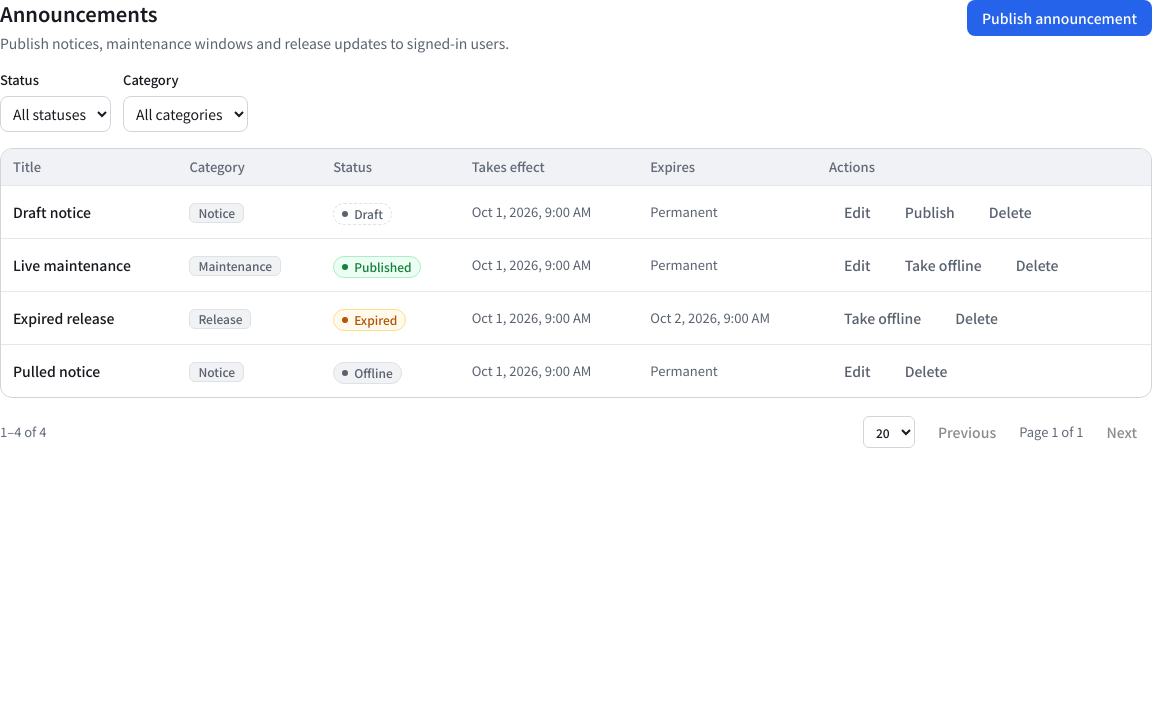
announcements admin page (F-08-04) › deletes only after the destructive confirmation
Expected: the text "Draft notice" is shown, [13,202,91,222]
Click the button with aria-label "Delete Pulled notice": [926, 371] box [890,353,962,389]
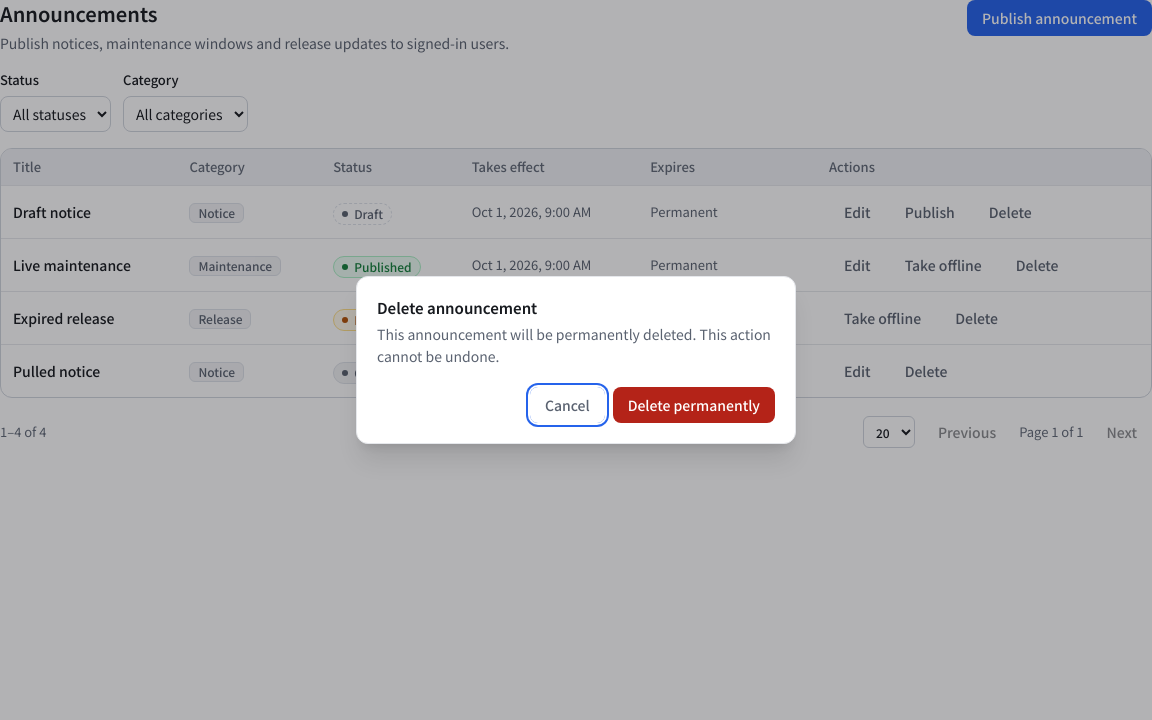
Result: the dialog shows "cannot be undone" at [377,324,771,366]
Click the button "Delete permanently": [694, 405] box [613,387,775,423]
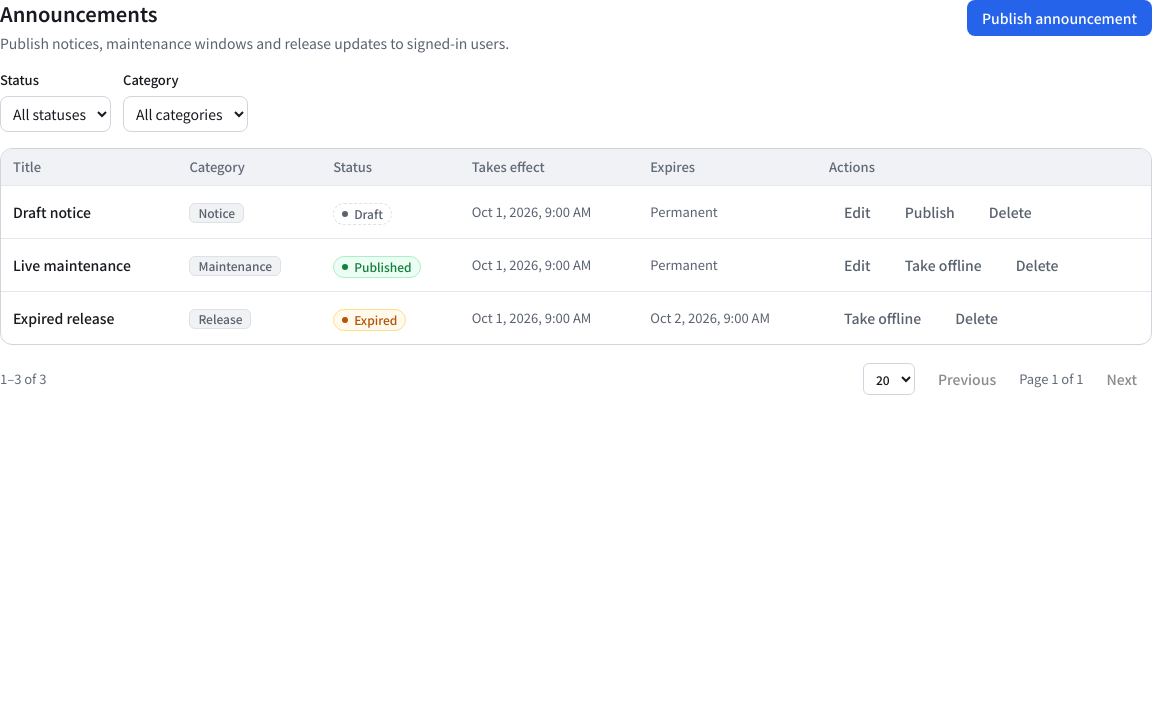
Result: the text "Pulled notice" is gone
